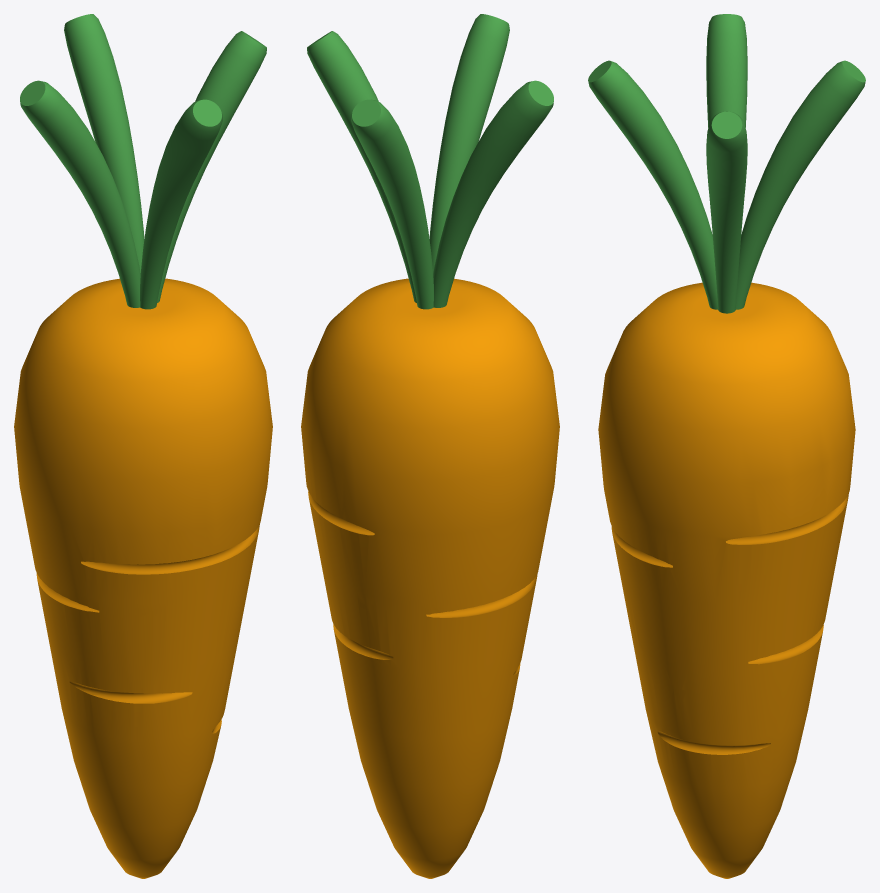
The model's file is game jam bullet.fbx.
The picture shows the model from 3 angles, left to right: view 1: azimuth 30°, elevation 25°; view 2: azimuth 150°, elevation 25°; view 3: azimuth 270°, elevation 25°; orthographic projection.
Visible parts, largest first — view 1: Cone, Cone_3, Cone_2, Cone_4, Cone_1, Torus, Torus_4; view 2: Cone, Cone_3, Cone_4, Cone_2, Cone_1, Torus_1, Torus_3, Torus_2; view 3: Cone, Cone_4, Cone_2, Cone_1, Cone_3, Torus_3, Torus_4_2, Torus_2.
Boxes of the visible parts, bbox=[...] form: Cone: bbox=[14, 278, 272, 878]; Cone_3: bbox=[20, 80, 140, 307]; Cone_2: bbox=[64, 14, 144, 272]; Cone_4: bbox=[140, 99, 222, 309]; Cone_1: bbox=[157, 31, 266, 302]; Torus: bbox=[81, 524, 259, 574]; Torus_4: bbox=[69, 681, 192, 703]; Cone: bbox=[301, 278, 559, 878]; Cone_3: bbox=[433, 80, 553, 307]; Cone_4: bbox=[429, 14, 509, 272]; Cone_2: bbox=[351, 99, 433, 309]; Cone_1: bbox=[307, 31, 416, 302]; Torus_1: bbox=[426, 573, 537, 617]; Torus_3: bbox=[308, 491, 374, 535]; Torus_2: bbox=[333, 624, 393, 659]; Cone: bbox=[598, 282, 855, 878]; Cone_4: bbox=[588, 60, 718, 309]; Cone_2: bbox=[735, 60, 865, 309]; Cone_1: bbox=[706, 111, 747, 313]; Cone_3: bbox=[706, 14, 747, 127]; Torus_3: bbox=[726, 493, 848, 544]; Torus_4_2: bbox=[657, 731, 770, 754]; Torus_2: bbox=[748, 625, 823, 664].
Bounding box in the file's own units: 132 × 428 × 132.
